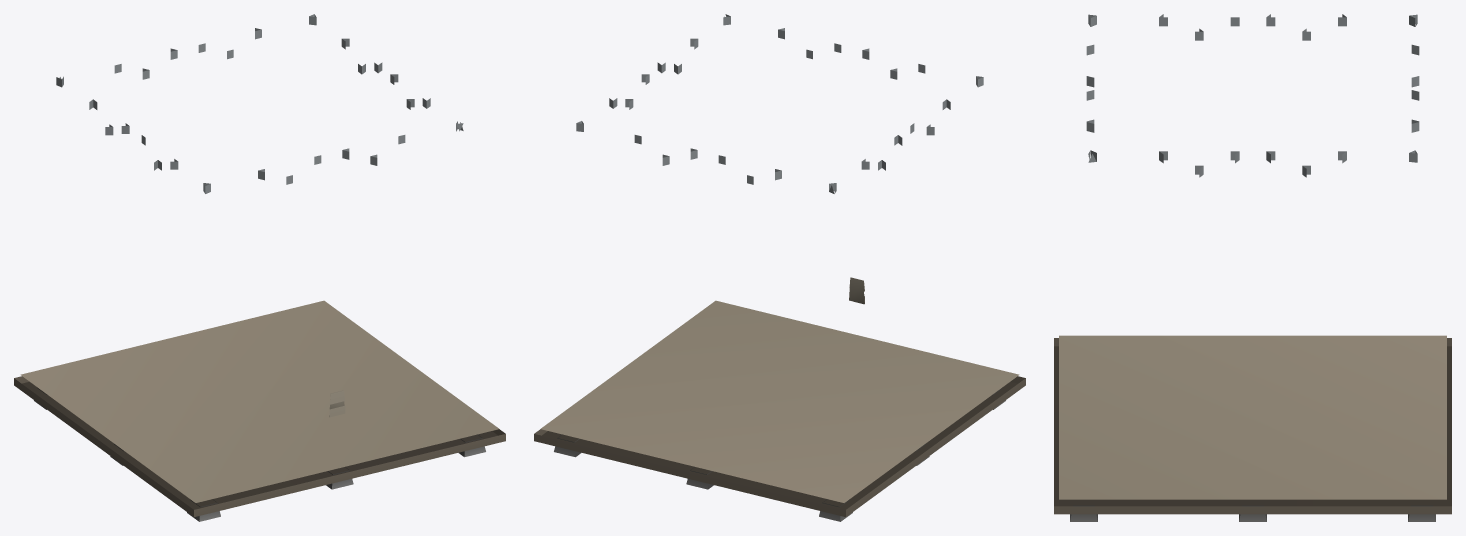
File: rebar.lod.glb
3 renders of one model, left to right at view 1: azimuth 30°, elevation 25°; view 2: azimuth 150°, elevation 25°; view 3: azimuth 270°, elevation 25°, orthographic. The views are drawn at different scales.
Visible parts, largest first — view 1: rebar.001; view 2: rebar.001; view 3: rebar.001.
Part boxes in pixels (x1=…): rebar.001: x1=14, y1=14, x2=505, y2=521; rebar.001: x1=534, y1=14, x2=1025, y2=521; rebar.001: x1=1054, y1=14, x2=1451, y2=521.
Bounding box in the file's own units: 2 × 2 × 2.
